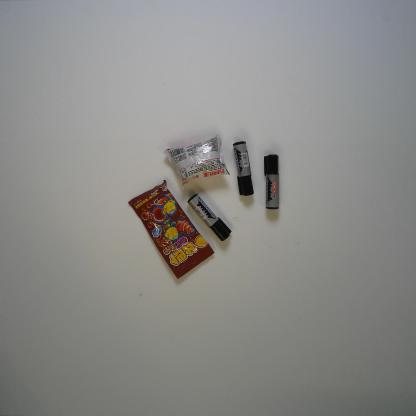Candy: (128, 180, 215, 279)
Dessert: (162, 134, 230, 190)
Stationery: (187, 193, 232, 242), (233, 141, 254, 196), (264, 154, 280, 210)
